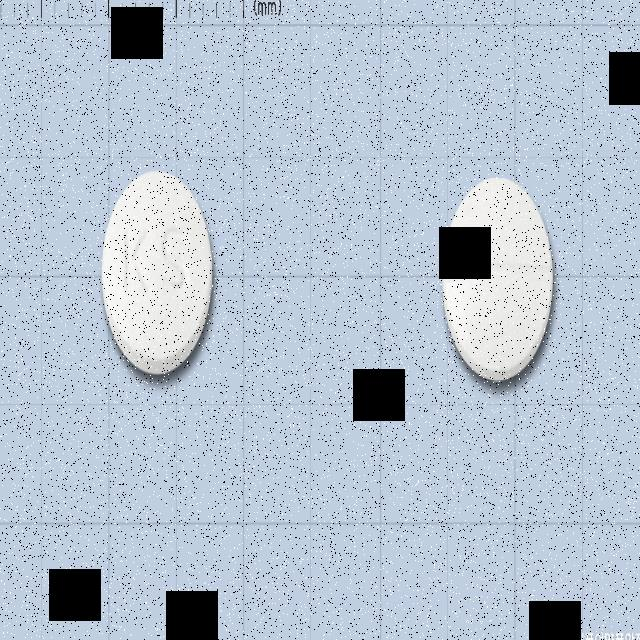Levofroxin: (102, 171, 214, 378)
